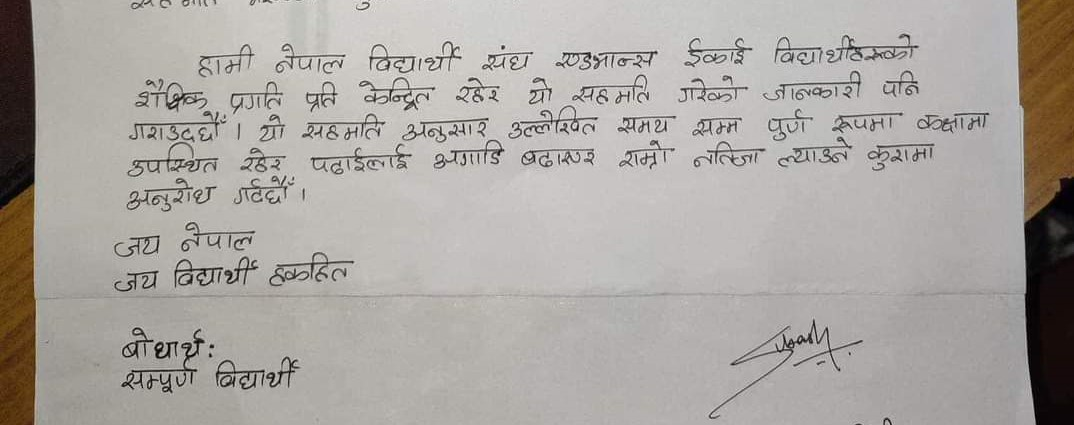text: (769, 31, 921, 67), (268, 249, 353, 293), (305, 142, 410, 177), (123, 142, 222, 179), (122, 176, 213, 216), (366, 38, 461, 76), (213, 353, 301, 394), (758, 69, 864, 103), (170, 252, 257, 293), (118, 322, 208, 360), (504, 107, 598, 143), (118, 361, 198, 399), (400, 111, 489, 145), (357, 77, 438, 114), (570, 72, 653, 107), (299, 110, 386, 143), (123, 113, 225, 141), (133, 77, 211, 113), (175, 219, 255, 253), (516, 141, 602, 172), (273, 41, 347, 77), (673, 72, 744, 109), (864, 141, 940, 175), (680, 34, 751, 70), (553, 49, 660, 71), (691, 139, 764, 171), (774, 143, 855, 171), (229, 174, 291, 209), (195, 43, 255, 79), (432, 143, 506, 171), (616, 138, 672, 172), (227, 79, 282, 113), (760, 108, 815, 142), (478, 42, 536, 74), (451, 72, 504, 107), (614, 110, 675, 139), (827, 111, 900, 135), (111, 233, 164, 264), (111, 266, 160, 297), (236, 145, 286, 175), (878, 68, 922, 100), (301, 79, 340, 115), (688, 113, 741, 137), (255, 114, 289, 144), (522, 77, 553, 107)
